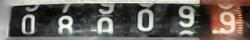digits: (137, 8, 155, 32), (219, 10, 235, 35), (178, 5, 195, 28), (57, 15, 74, 37), (20, 14, 37, 35), (97, 16, 114, 37)
